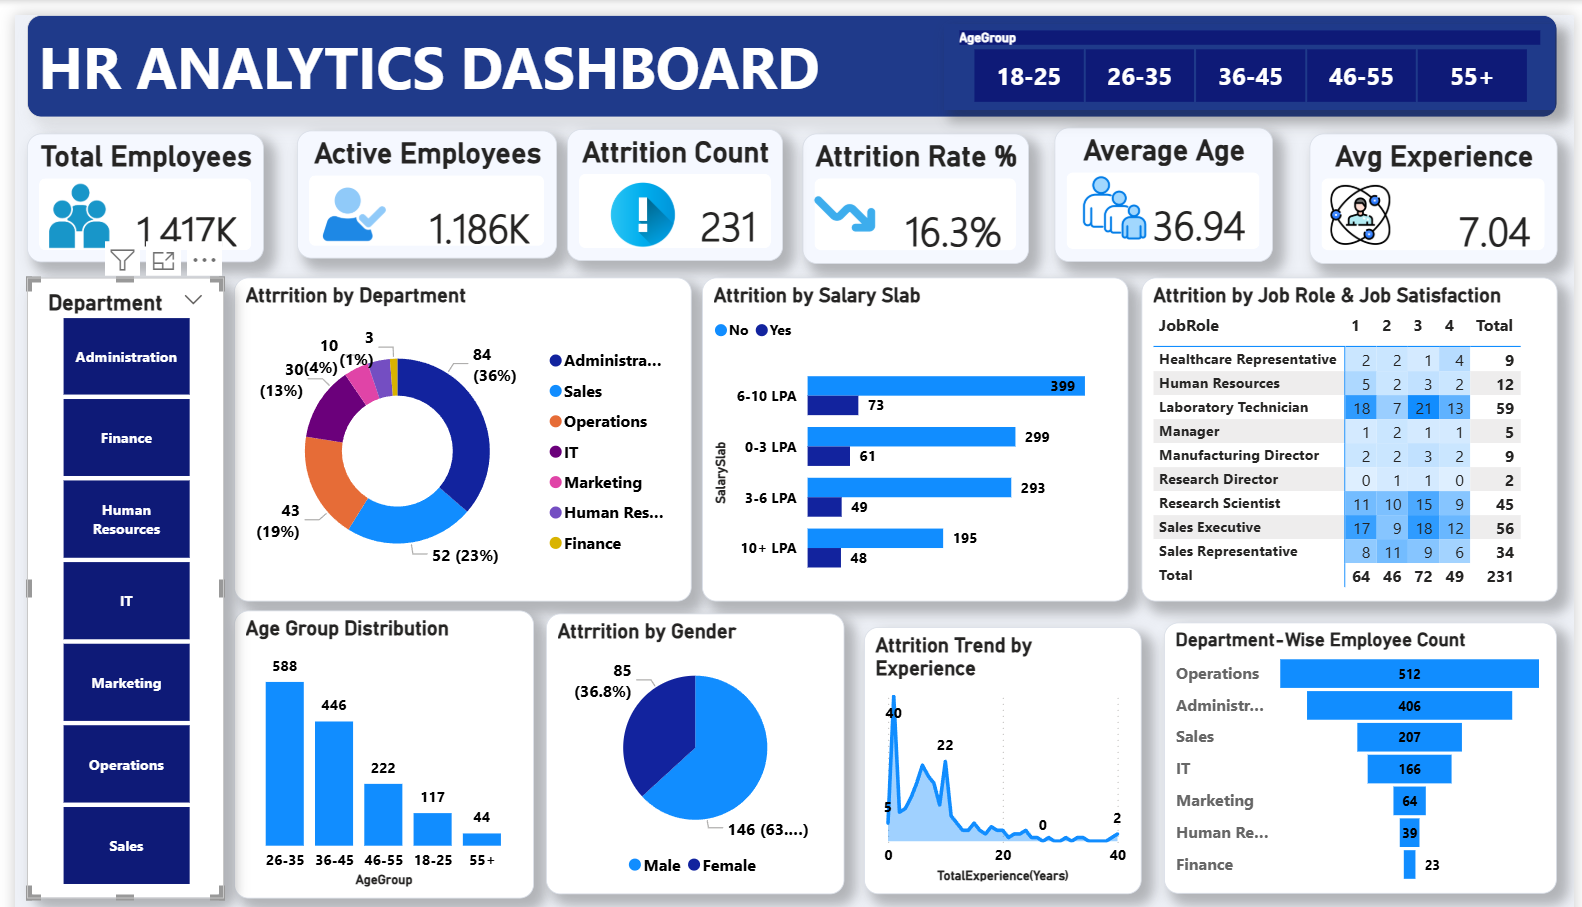

The dashboard page shown, as its layout file describes it:
{"tool":"powerbi","page":{"name":"Page 1","canvas":[1300,850],"ordinal":0},"visuals":[{"type":"textbox","box":[10,0,1275,85],"z":0},{"type":"cardVisual","title":"Total Employees","fields":{"Data":["CountNonNull(HR_Analytics-4 (1).EmpID)"]},"box":[10,98.8,197.5,107.5],"z":1000},{"type":"cardVisual","title":"Active Employees","fields":{"Data":["CountNonNull(HR_Analytics-4 (1).EmployeeCount)"]},"box":[235,96.7,216.7,106.7],"z":2000},{"type":"cardVisual","title":"Avg Experience","fields":{"Data":["Avg(HR_Analytics-4 (1).YearsatCompany)"]},"box":[1078.3,98.3,206.7,108.3],"z":3000},{"type":"cardVisual","title":"Average Age","fields":{"Data":["Avg(HR_Analytics-4 (1).Age)"]},"box":[866.7,93.3,181.7,111.7],"z":4000},{"type":"cardVisual","title":"Attrition Rate %","fields":{"Data":["HR_Analytics-4 (1).Attrition Rate %"]},"box":[656.7,98.3,188.3,108.3],"z":5000},{"type":"cardVisual","title":"Attrition Count","fields":{"Data":["Sum(HR_Analytics-4 (1).AttrritionCount)"]},"box":[460,95,180,110],"z":6000},{"type":"image","box":[0,128.6,108.6,77.1],"z":7000},{"type":"image","box":[234.3,134.3,98.6,64.3],"z":8000},{"type":"image","box":[481.7,133.3,83.3,65],"z":9000},{"type":"image","box":[647.5,133.8,87.5,63.8],"z":10000},{"type":"image","box":[873.3,128.3,85,63.3],"z":11000},{"type":"image","box":[1078.3,136.7,85,60],"z":12000},{"type":"donutChart","title":"Attrrition by Department","fields":{"Category":["HR_Analytics-4 (1).Department"],"Y":["Sum(HR_Analytics-4 (1).AttrritionCount)"]},"box":[182.5,218.8,381.2,270],"z":13000},{"type":"clusteredBarChart","title":"Attrition by Salary Slab","fields":{"Category":["HR_Analytics-4 (1).SalarySlab"],"Y":["CountNonNull(HR_Analytics-4 (1).EmpID)"],"Series":["HR_Analytics-4 (1).Attrition"]},"box":[572.5,218.8,355,270],"z":14000},{"type":"pivotTable","title":"Attrition by Job Role & Job Satisfaction","fields":{"Rows":["HR_Analytics-4 (1).JobRole"],"Values":["Sum(HR_Analytics-4 (1).AttrritionCount)"],"Columns":["HR_Analytics-4 (1).JobSatisfaction"]},"box":[938.3,218.3,346.7,270],"z":15000},{"type":"columnChart","title":"Age Group Distribution","fields":{"Category":["HR_Analytics-4 (1).AgeGroup"],"Y":["Sum(HR_Analytics-4 (1).EmployeeCount)"]},"box":[182.5,496.2,250,240],"z":16000},{"type":"pieChart","title":" Attrrition by Gender","fields":{"Category":["HR_Analytics-4 (1).Gender"],"Y":["Sum(HR_Analytics-4 (1).AttrritionCount)"]},"box":[442.5,498.8,248.8,233.8],"z":16001},{"type":"areaChart","title":"Attrition Trend by Experience","fields":{"Category":["HR_Analytics-4 (1).TotalExperience(Years)"],"Y":["Sum(HR_Analytics-4 (1).AttrritionCount)"]},"box":[707.5,510,231.2,222.5],"z":16002},{"type":"funnel","title":"Department-Wise Employee Count","fields":{"Category":["HR_Analytics-4 (1).Department"],"Y":["CountNonNull(HR_Analytics-4 (1).EmpID)"]},"box":[957.5,506.2,327.5,226.2],"z":16003},{"type":"slicer","fields":{"Values":["HR_Analytics-4 (1).Department"]},"box":[10,218.8,163.8,517.5],"z":16005},{"type":"slicer","fields":{"Values":["HR_Analytics-4 (1).AgeGroup"]},"box":[707.8,0,482.2,72.2],"z":16006}]}

Visuals, with their boxes on the page's 1300x850 design canvas (x1, y1, x2, y2). These are canvas units, not pixel positions in the 1582x907 screenshot, which may show the page scaled, cropped or inside an application window:
textbox: x1=10 y1=0 x2=1285 y2=85
"Total Employees" cardVisual: x1=10 y1=99 x2=208 y2=206
"Active Employees" cardVisual: x1=235 y1=97 x2=452 y2=203
"Avg Experience" cardVisual: x1=1078 y1=98 x2=1285 y2=207
"Average Age" cardVisual: x1=867 y1=93 x2=1048 y2=205
"Attrition Rate %" cardVisual: x1=657 y1=98 x2=845 y2=207
"Attrition Count" cardVisual: x1=460 y1=95 x2=640 y2=205
image: x1=0 y1=129 x2=109 y2=206
image: x1=234 y1=134 x2=333 y2=199
image: x1=482 y1=133 x2=565 y2=198
image: x1=648 y1=134 x2=735 y2=198
image: x1=873 y1=128 x2=958 y2=192
image: x1=1078 y1=137 x2=1163 y2=197
"Attrrition by Department" donutChart: x1=182 y1=219 x2=564 y2=489
"Attrition by Salary Slab" clusteredBarChart: x1=572 y1=219 x2=928 y2=489
"Attrition by Job Role & Job Satisfaction" pivotTable: x1=938 y1=218 x2=1285 y2=488
"Age Group Distribution" columnChart: x1=182 y1=496 x2=432 y2=736
" Attrrition by Gender" pieChart: x1=442 y1=499 x2=691 y2=733
"Attrition Trend by Experience" areaChart: x1=708 y1=510 x2=939 y2=732
"Department-Wise Employee Count" funnel: x1=958 y1=506 x2=1285 y2=732
slicer - HR_Analytics-4 (1).Department: x1=10 y1=219 x2=174 y2=736
slicer - HR_Analytics-4 (1).AgeGroup: x1=708 y1=0 x2=1190 y2=72
